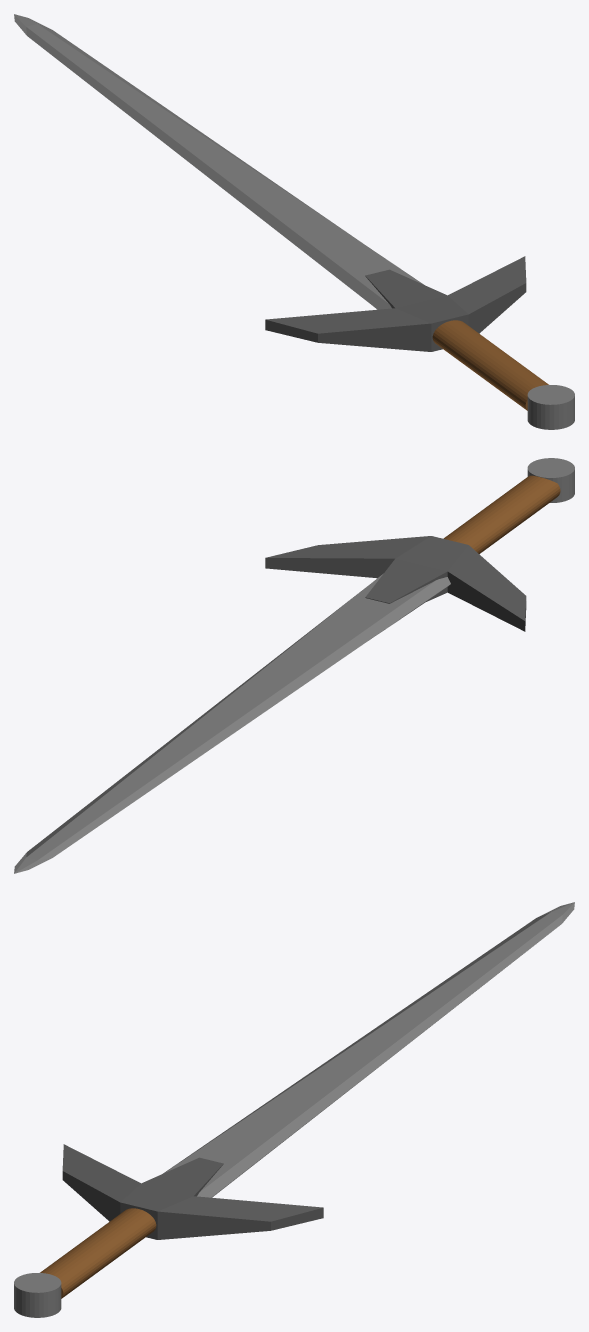
Rendered from Sword.fbx.
3 renders of one model, top to bottom at view 1: azimuth 30°, elevation 25°; view 2: azimuth 150°, elevation 25°; view 3: azimuth 330°, elevation 25°, orthographic.
Parts seen in each view (by area): view 1: Cube.001, Cube, Cylinder, Cylinder.001; view 2: Cube.001, Cube, Cylinder, Cylinder.001; view 3: Cube.001, Cube, Cylinder, Cylinder.001.
Boxes of the visible parts, bbox=[...] form: Cube.001: bbox=[14, 14, 423, 309]; Cube: bbox=[265, 256, 526, 351]; Cylinder: bbox=[432, 320, 548, 410]; Cylinder.001: bbox=[527, 385, 574, 429]; Cube.001: bbox=[14, 573, 450, 873]; Cube: bbox=[265, 536, 526, 631]; Cylinder: bbox=[443, 475, 560, 553]; Cylinder.001: bbox=[527, 458, 574, 502]; Cube.001: bbox=[163, 902, 574, 1197]; Cube: bbox=[62, 1144, 323, 1239]; Cylinder: bbox=[40, 1208, 156, 1298]; Cylinder.001: bbox=[14, 1273, 61, 1317].
Bounding box in the file's own units: 372 × 1361 × 39.07.
